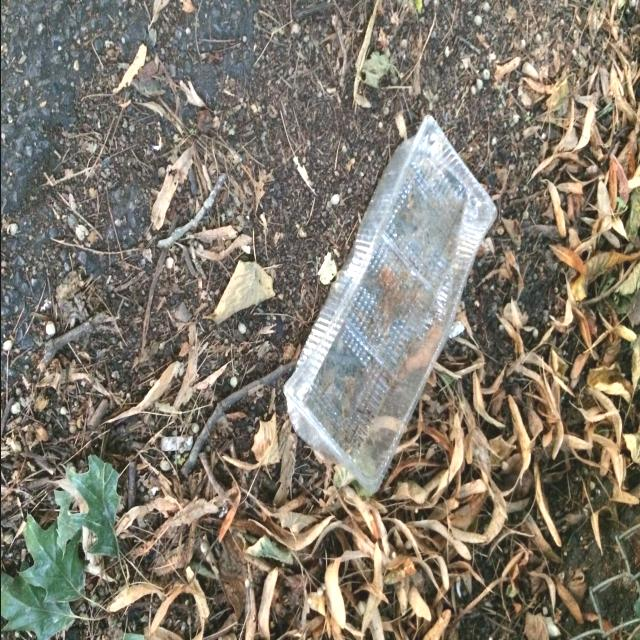Cigarette: (159, 436, 191, 451)
Disposable food container: (283, 115, 496, 494)
